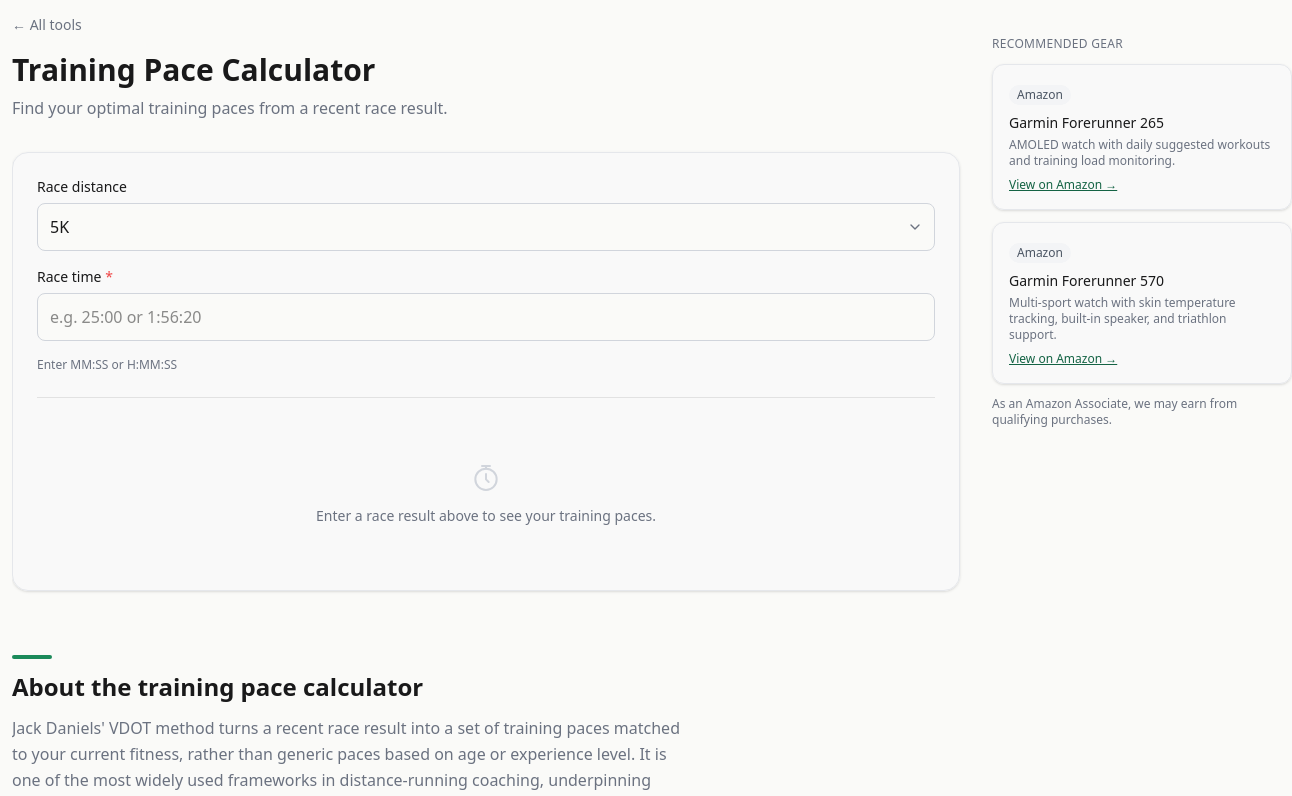
Test: TrainingPaces page › hides the empty state when a valid time is entered
Type "25:00" into the field labelled "Race time *" at [486, 317], box [37,293,935,341]
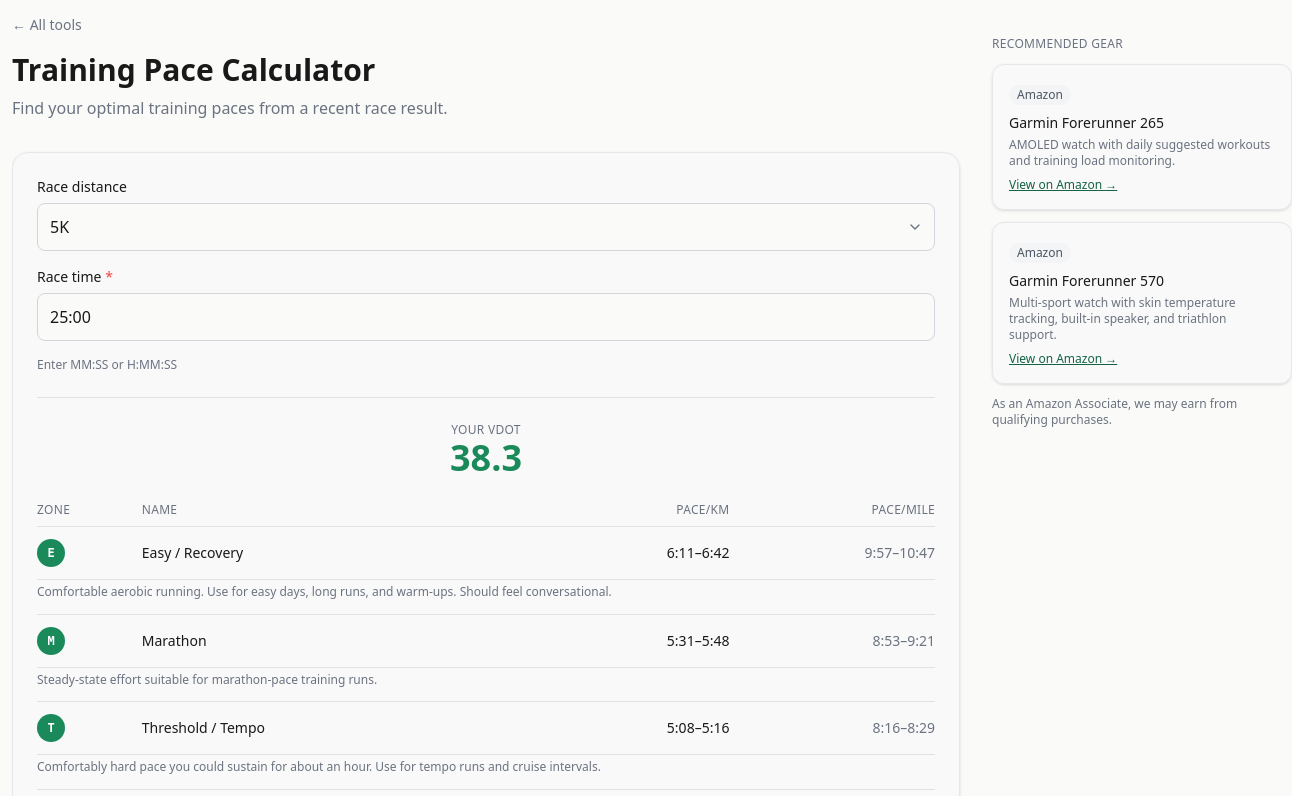
Check: the text "Enter a race result above to see your training paces" is gone
